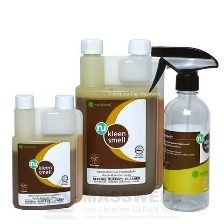cleaning_solution: (70, 35, 167, 198), (147, 43, 220, 214), (10, 90, 84, 213)
